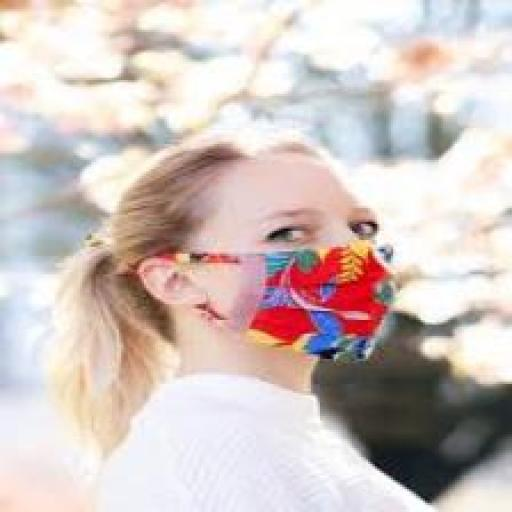mask: (220, 234, 416, 381)
